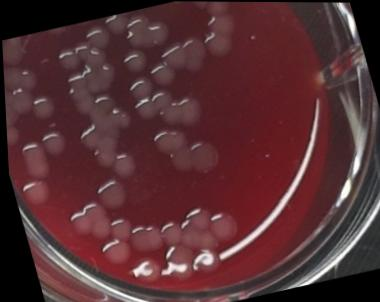vharveyi: (153, 196, 245, 261), (146, 115, 223, 183), (15, 137, 54, 184), (90, 176, 130, 214), (95, 234, 131, 269), (17, 174, 54, 208), (118, 44, 152, 77), (37, 127, 68, 157), (26, 93, 56, 122), (53, 44, 80, 72)
